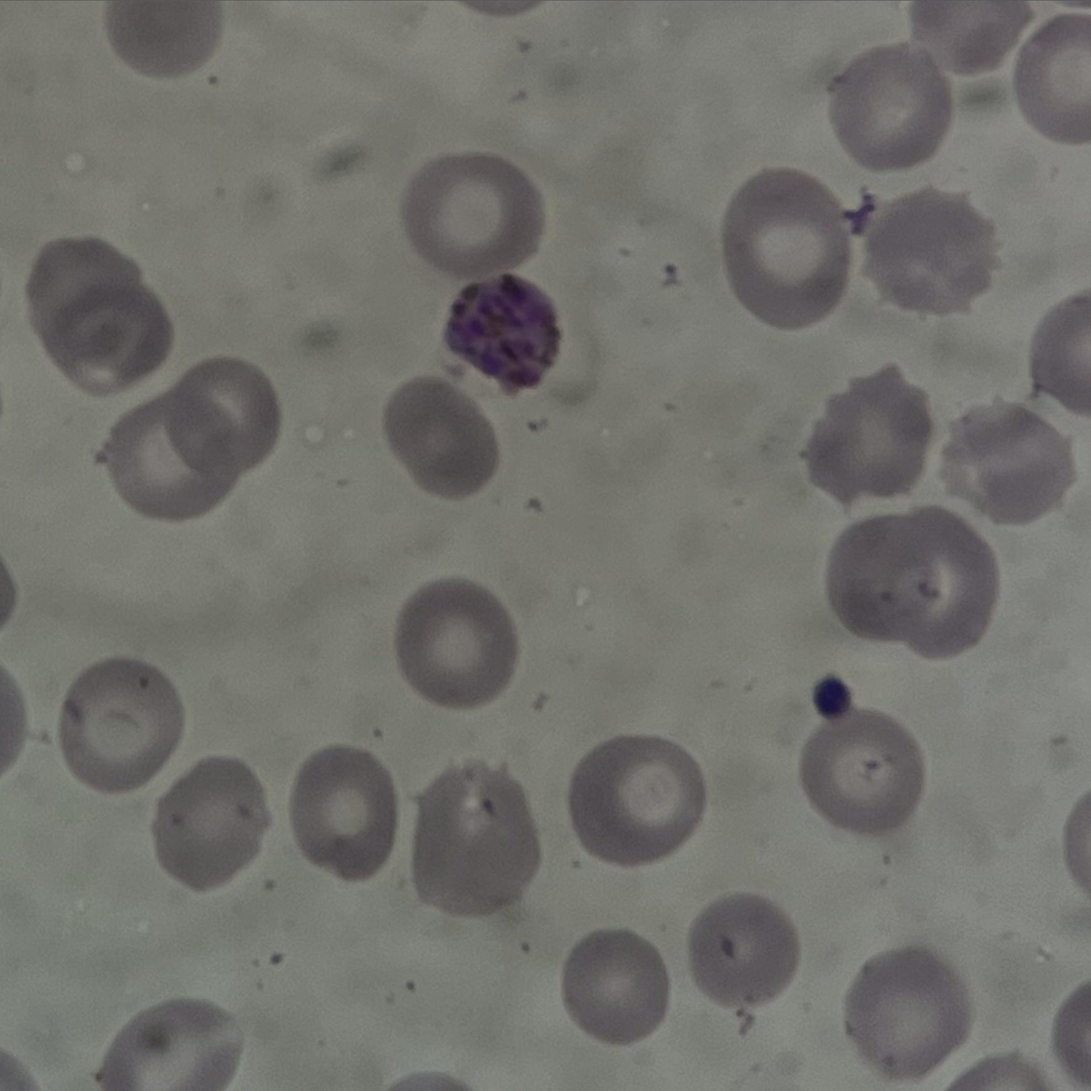Infected: (441, 274, 554, 392)
Uninfected: (100, 356, 280, 523), (824, 506, 993, 660), (24, 236, 174, 397), (719, 168, 855, 329), (408, 761, 543, 914), (802, 366, 934, 505), (400, 152, 544, 277), (56, 656, 186, 794), (861, 187, 999, 317), (395, 573, 520, 711), (575, 730, 700, 867), (149, 757, 271, 892), (842, 947, 964, 1082), (937, 403, 1072, 524), (798, 707, 924, 836), (827, 44, 949, 171), (288, 746, 403, 880), (382, 373, 504, 499), (95, 997, 241, 1091), (686, 894, 802, 1010), (560, 930, 670, 1044), (1013, 14, 1090, 143), (910, 1, 1031, 78), (105, 3, 224, 79), (1030, 288, 1091, 417), (379, 1070, 466, 1090)
